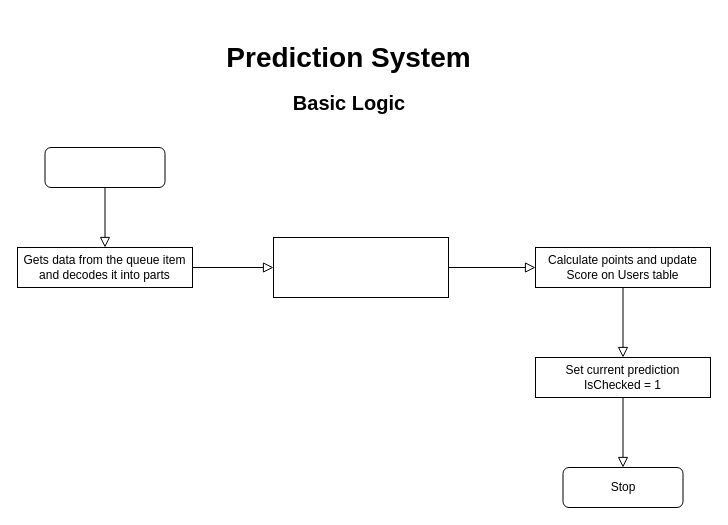
This 728x525 diagram has some shape labels left out. The shapes that lost their labels are listed below. From the top down, each one's box as (x1, y1, x2, y2) in pixels, then its label:
(44, 146, 165, 188): Start
(272, 236, 448, 298): Get prediction data from DB where MatchID is the same and IsChecked = 0
